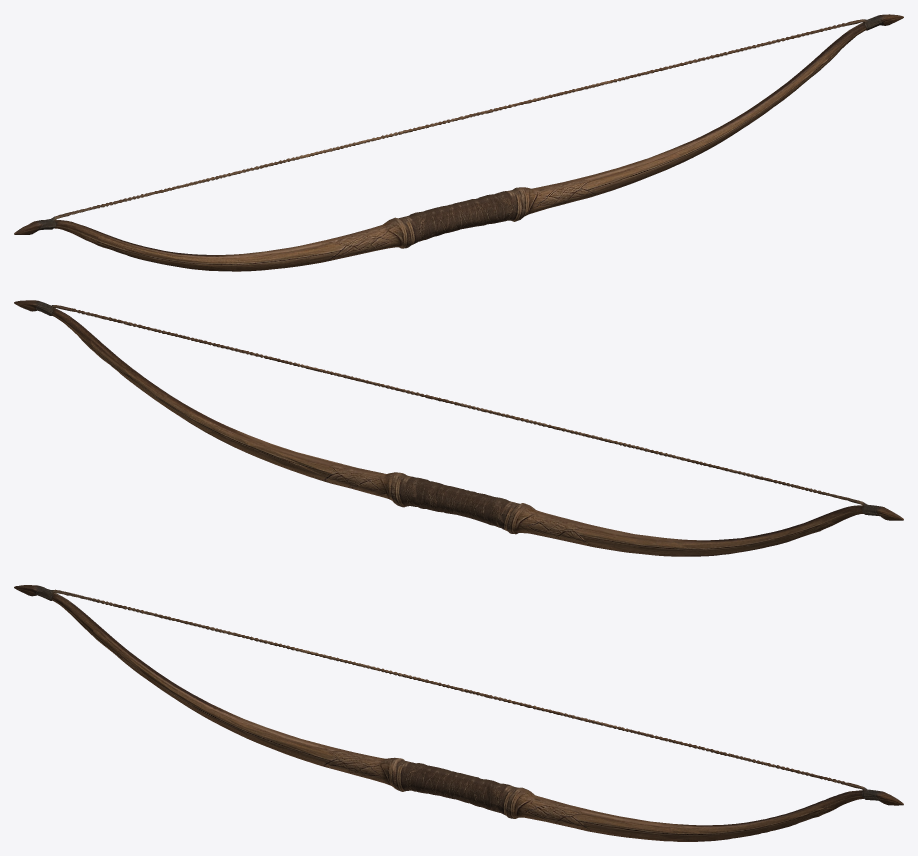
Rendered from bow.glb.
The picture shows the model from 3 angles, top to bottom: view 1: azimuth 30°, elevation 25°; view 2: azimuth 150°, elevation 25°; view 3: azimuth 330°, elevation 25°; orthographic projection.
Visible parts, largest first — view 1: output_unwrapped; view 2: output_unwrapped; view 3: output_unwrapped.
Boxes of the visible parts, x1,y1,x2,y2 form: output_unwrapped: (14,14,903,271); output_unwrapped: (14,300,903,556); output_unwrapped: (14,585,903,841).
Bounding box in the file's own units: 1.9 × 0.2394 × 0.0557.
1 material, 1 textured.
